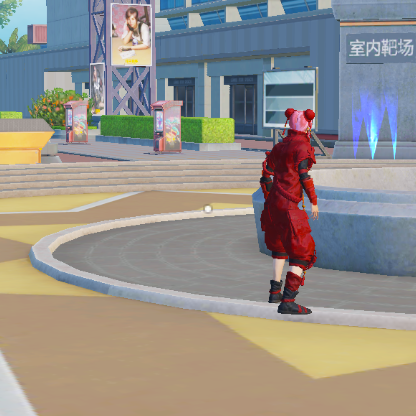ren: (263, 106, 327, 315), (120, 8, 152, 61)
tou: (283, 108, 318, 135), (122, 7, 144, 36)
